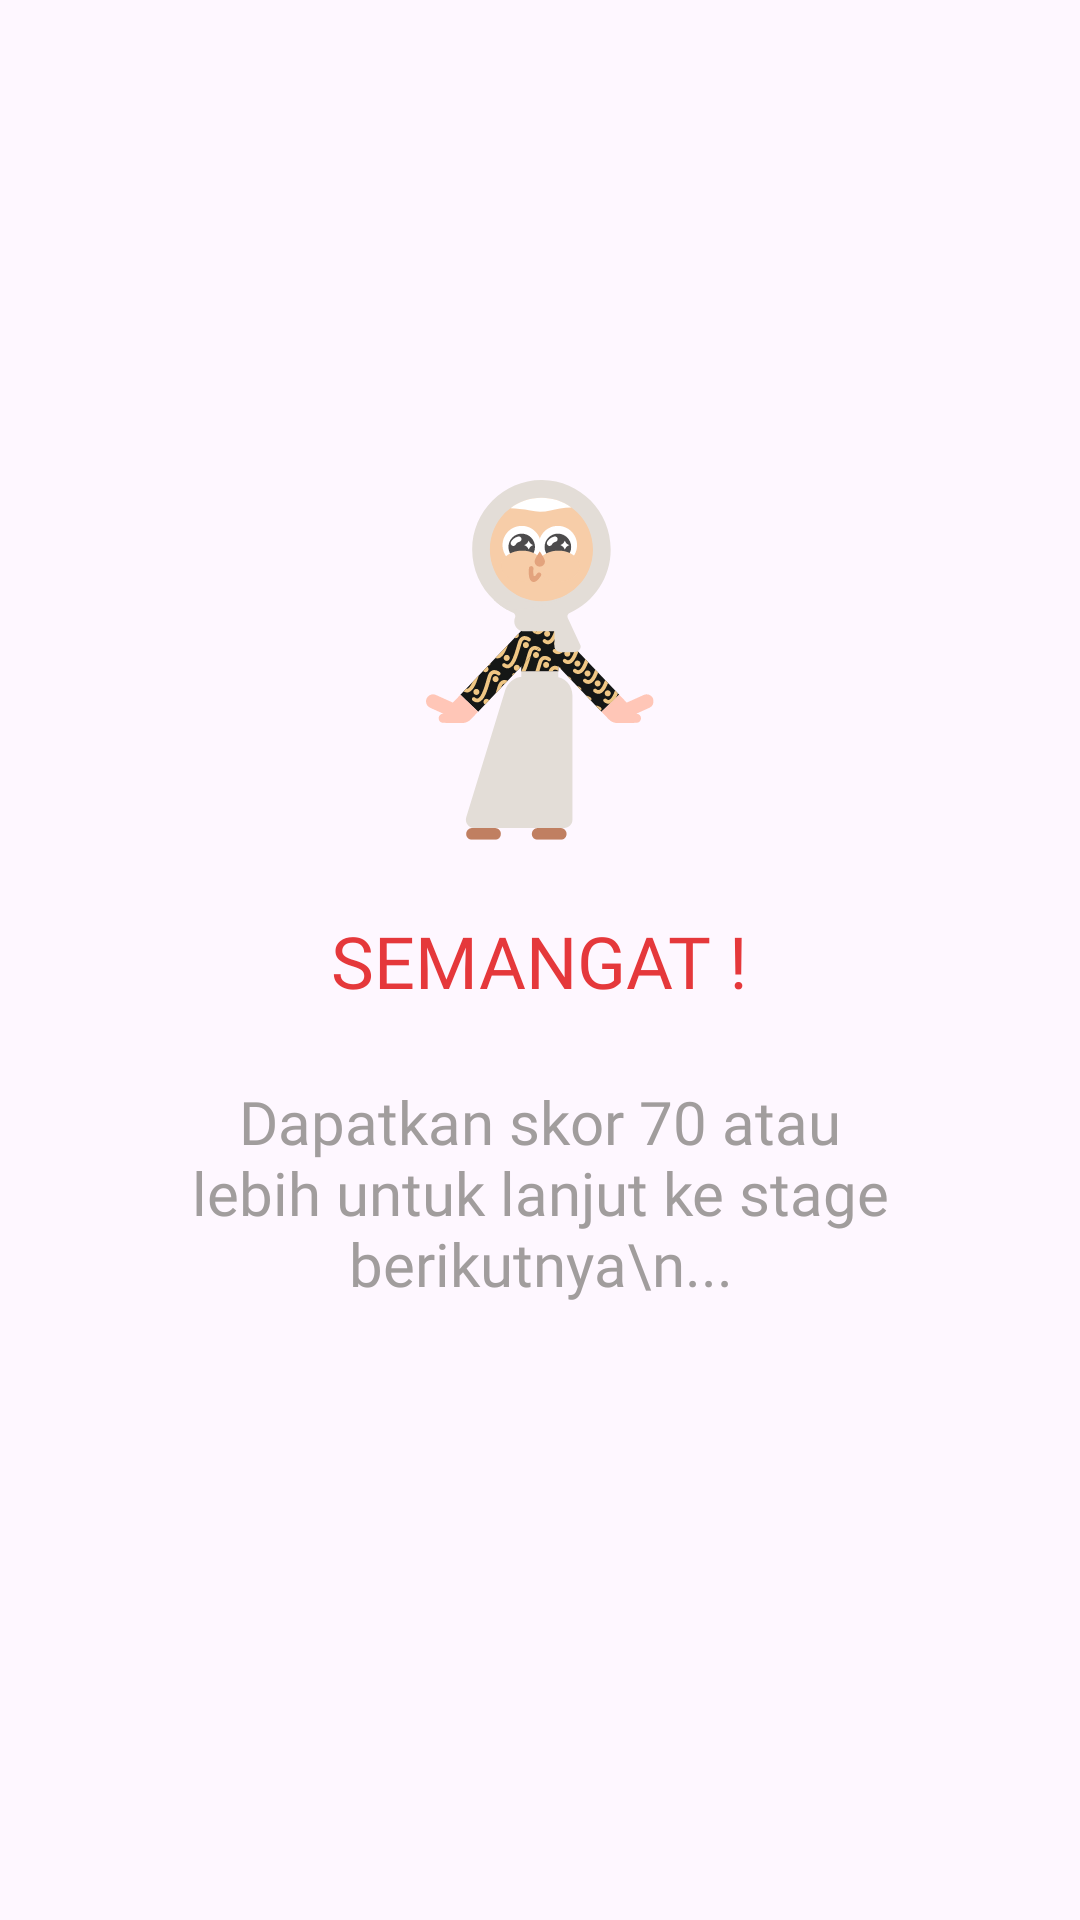

Screen size 1080w x 1920h. Icon name, then its box in pixels as (x1, y1, x2, y2):
figure batik: (426, 480, 653, 840)
